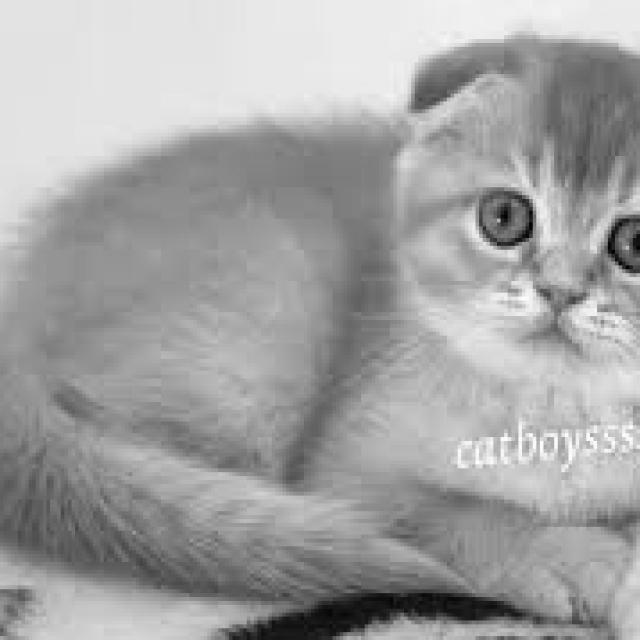scootish: (336, 0, 640, 453)
